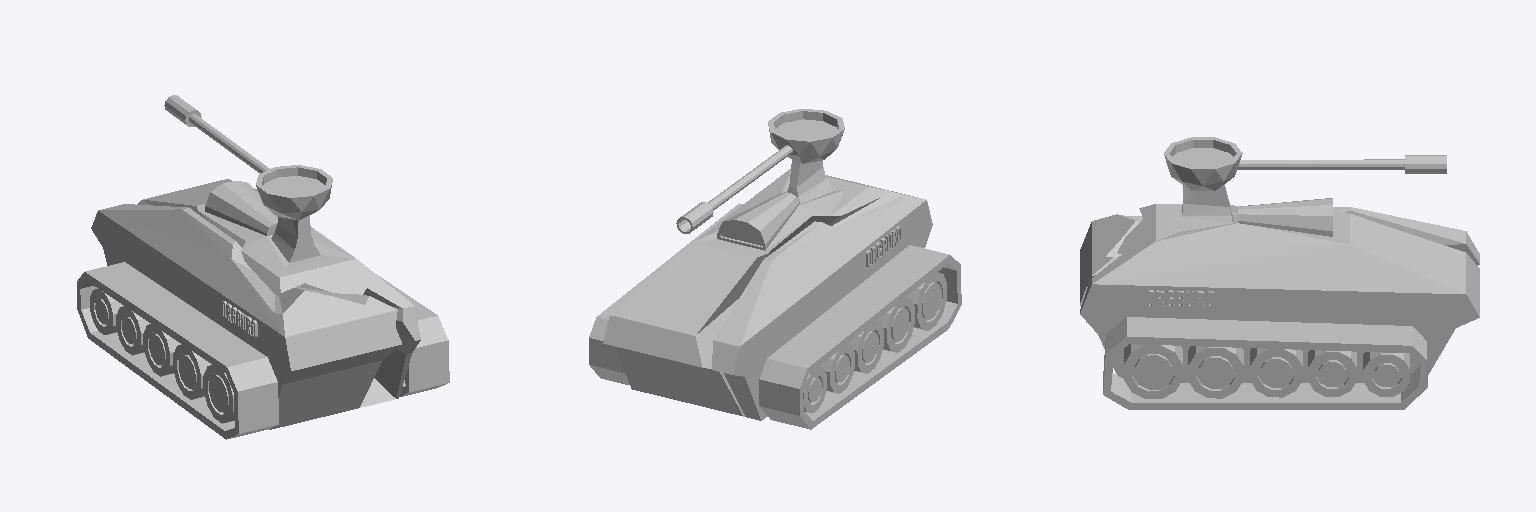
File: tank_cracked_02.obj
3 views of the same model, side by side, from view 1: azimuth 30°, elevation 25°; view 2: azimuth 150°, elevation 25°; view 3: azimuth 270°, elevation 25° (orthographic).
Visible parts, largest first — view 1: tank_01_cracked_Cube.006; view 2: tank_01_cracked_Cube.006; view 3: tank_01_cracked_Cube.006.
Part boxes in pixels (x1,y1,x2,y2): tank_01_cracked_Cube.006: (77,95,449,439); tank_01_cracked_Cube.006: (589,109,961,429); tank_01_cracked_Cube.006: (1080,137,1479,409).
Bounding box in the file's own units: 3.25 × 3.02 × 5.34.